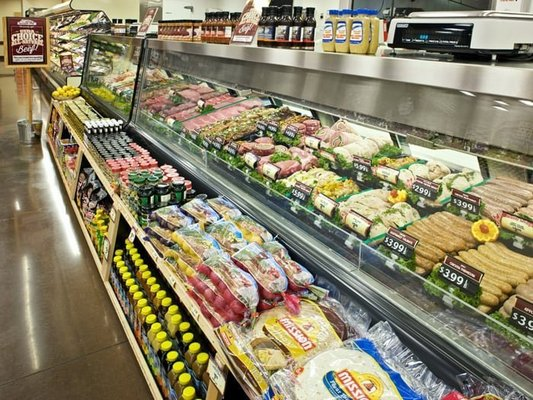soup: (172, 227, 261, 318), (310, 172, 363, 219), (287, 168, 336, 208), (371, 149, 416, 186), (253, 147, 301, 181), (182, 197, 223, 230)
